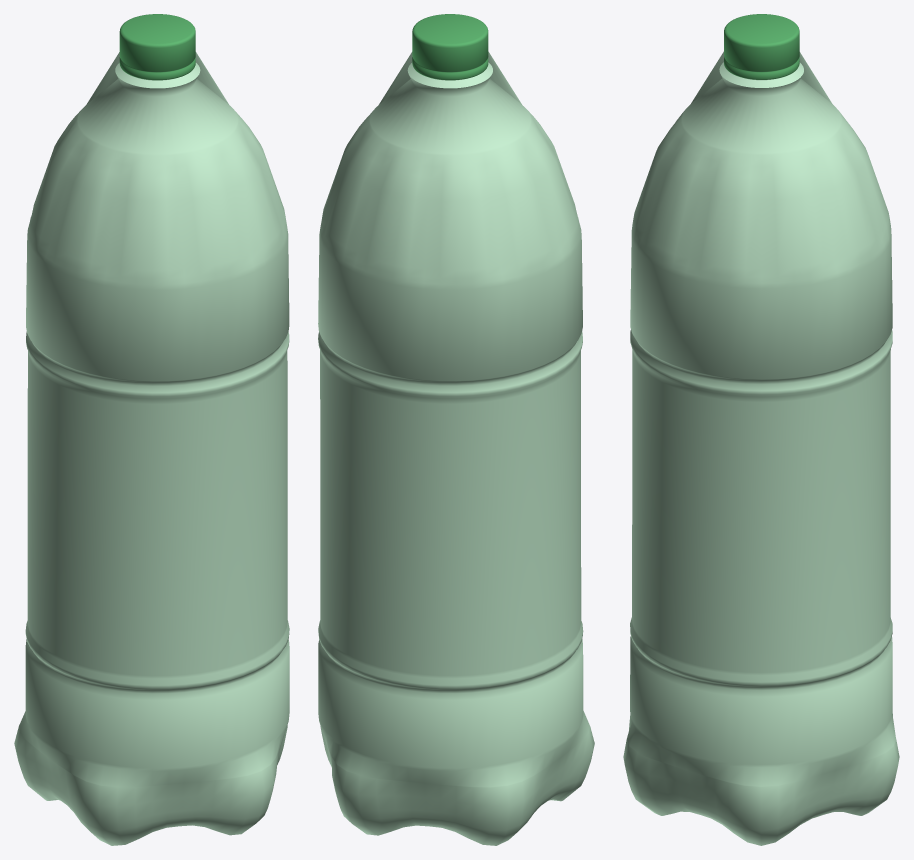
The model's file is bottle_pet2l.glb.
3 renders of one model, left to right at view 1: azimuth 30°, elevation 25°; view 2: azimuth 150°, elevation 25°; view 3: azimuth 270°, elevation 25°, orthographic.
Visible parts, largest first — view 1: Glass, Cap; view 2: Glass, Cap; view 3: Glass, Cap.
Part boxes in pixels (bbox=[...]): Glass: bbox=[14, 52, 289, 845]; Cap: bbox=[119, 14, 195, 80]; Glass: bbox=[318, 51, 594, 845]; Cap: bbox=[412, 14, 488, 80]; Glass: bbox=[623, 51, 899, 845]; Cap: bbox=[724, 14, 799, 79].
Bounding box in the file's own units: 0.1093 × 0.3372 × 0.1096.
